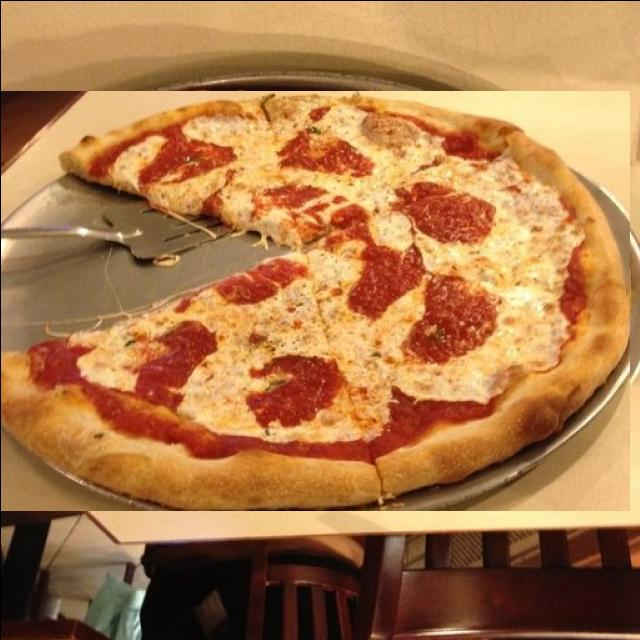pizza: (0, 90, 629, 510)
